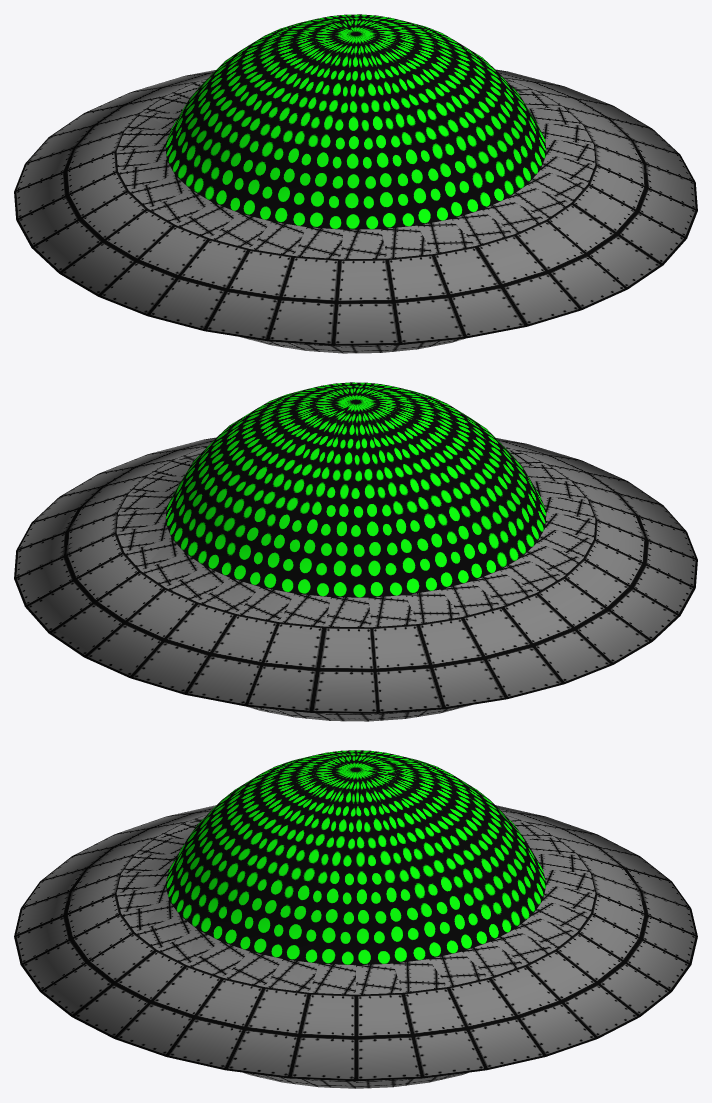
The model's file is ufo.FBX.
3 views of the same model, one above another, from view 1: azimuth 30°, elevation 25°; view 2: azimuth 150°, elevation 25°; view 3: azimuth 270°, elevation 25° (orthographic).
Visible parts, largest first — view 1: Sphere001; view 2: Sphere001; view 3: Sphere001.
Boxes of the visible parts, bbox=[...] form: Sphere001: bbox=[14, 14, 697, 353]; Sphere001: bbox=[14, 382, 697, 721]; Sphere001: bbox=[14, 750, 697, 1088].
Size of the model in its own units: 47.1 by 18.16 by 47.1.
